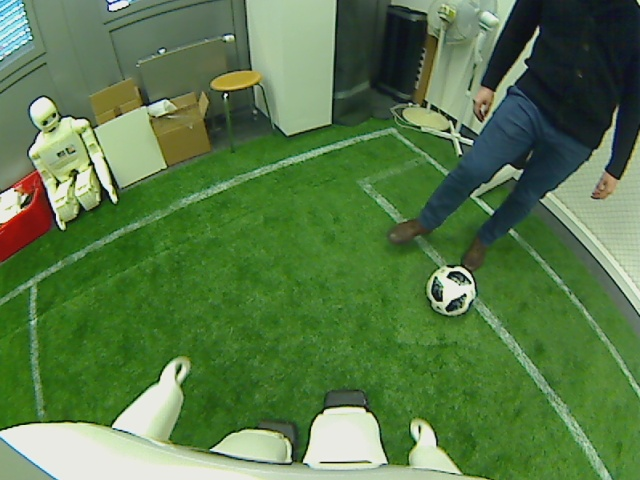ball: (425, 264, 477, 317)
